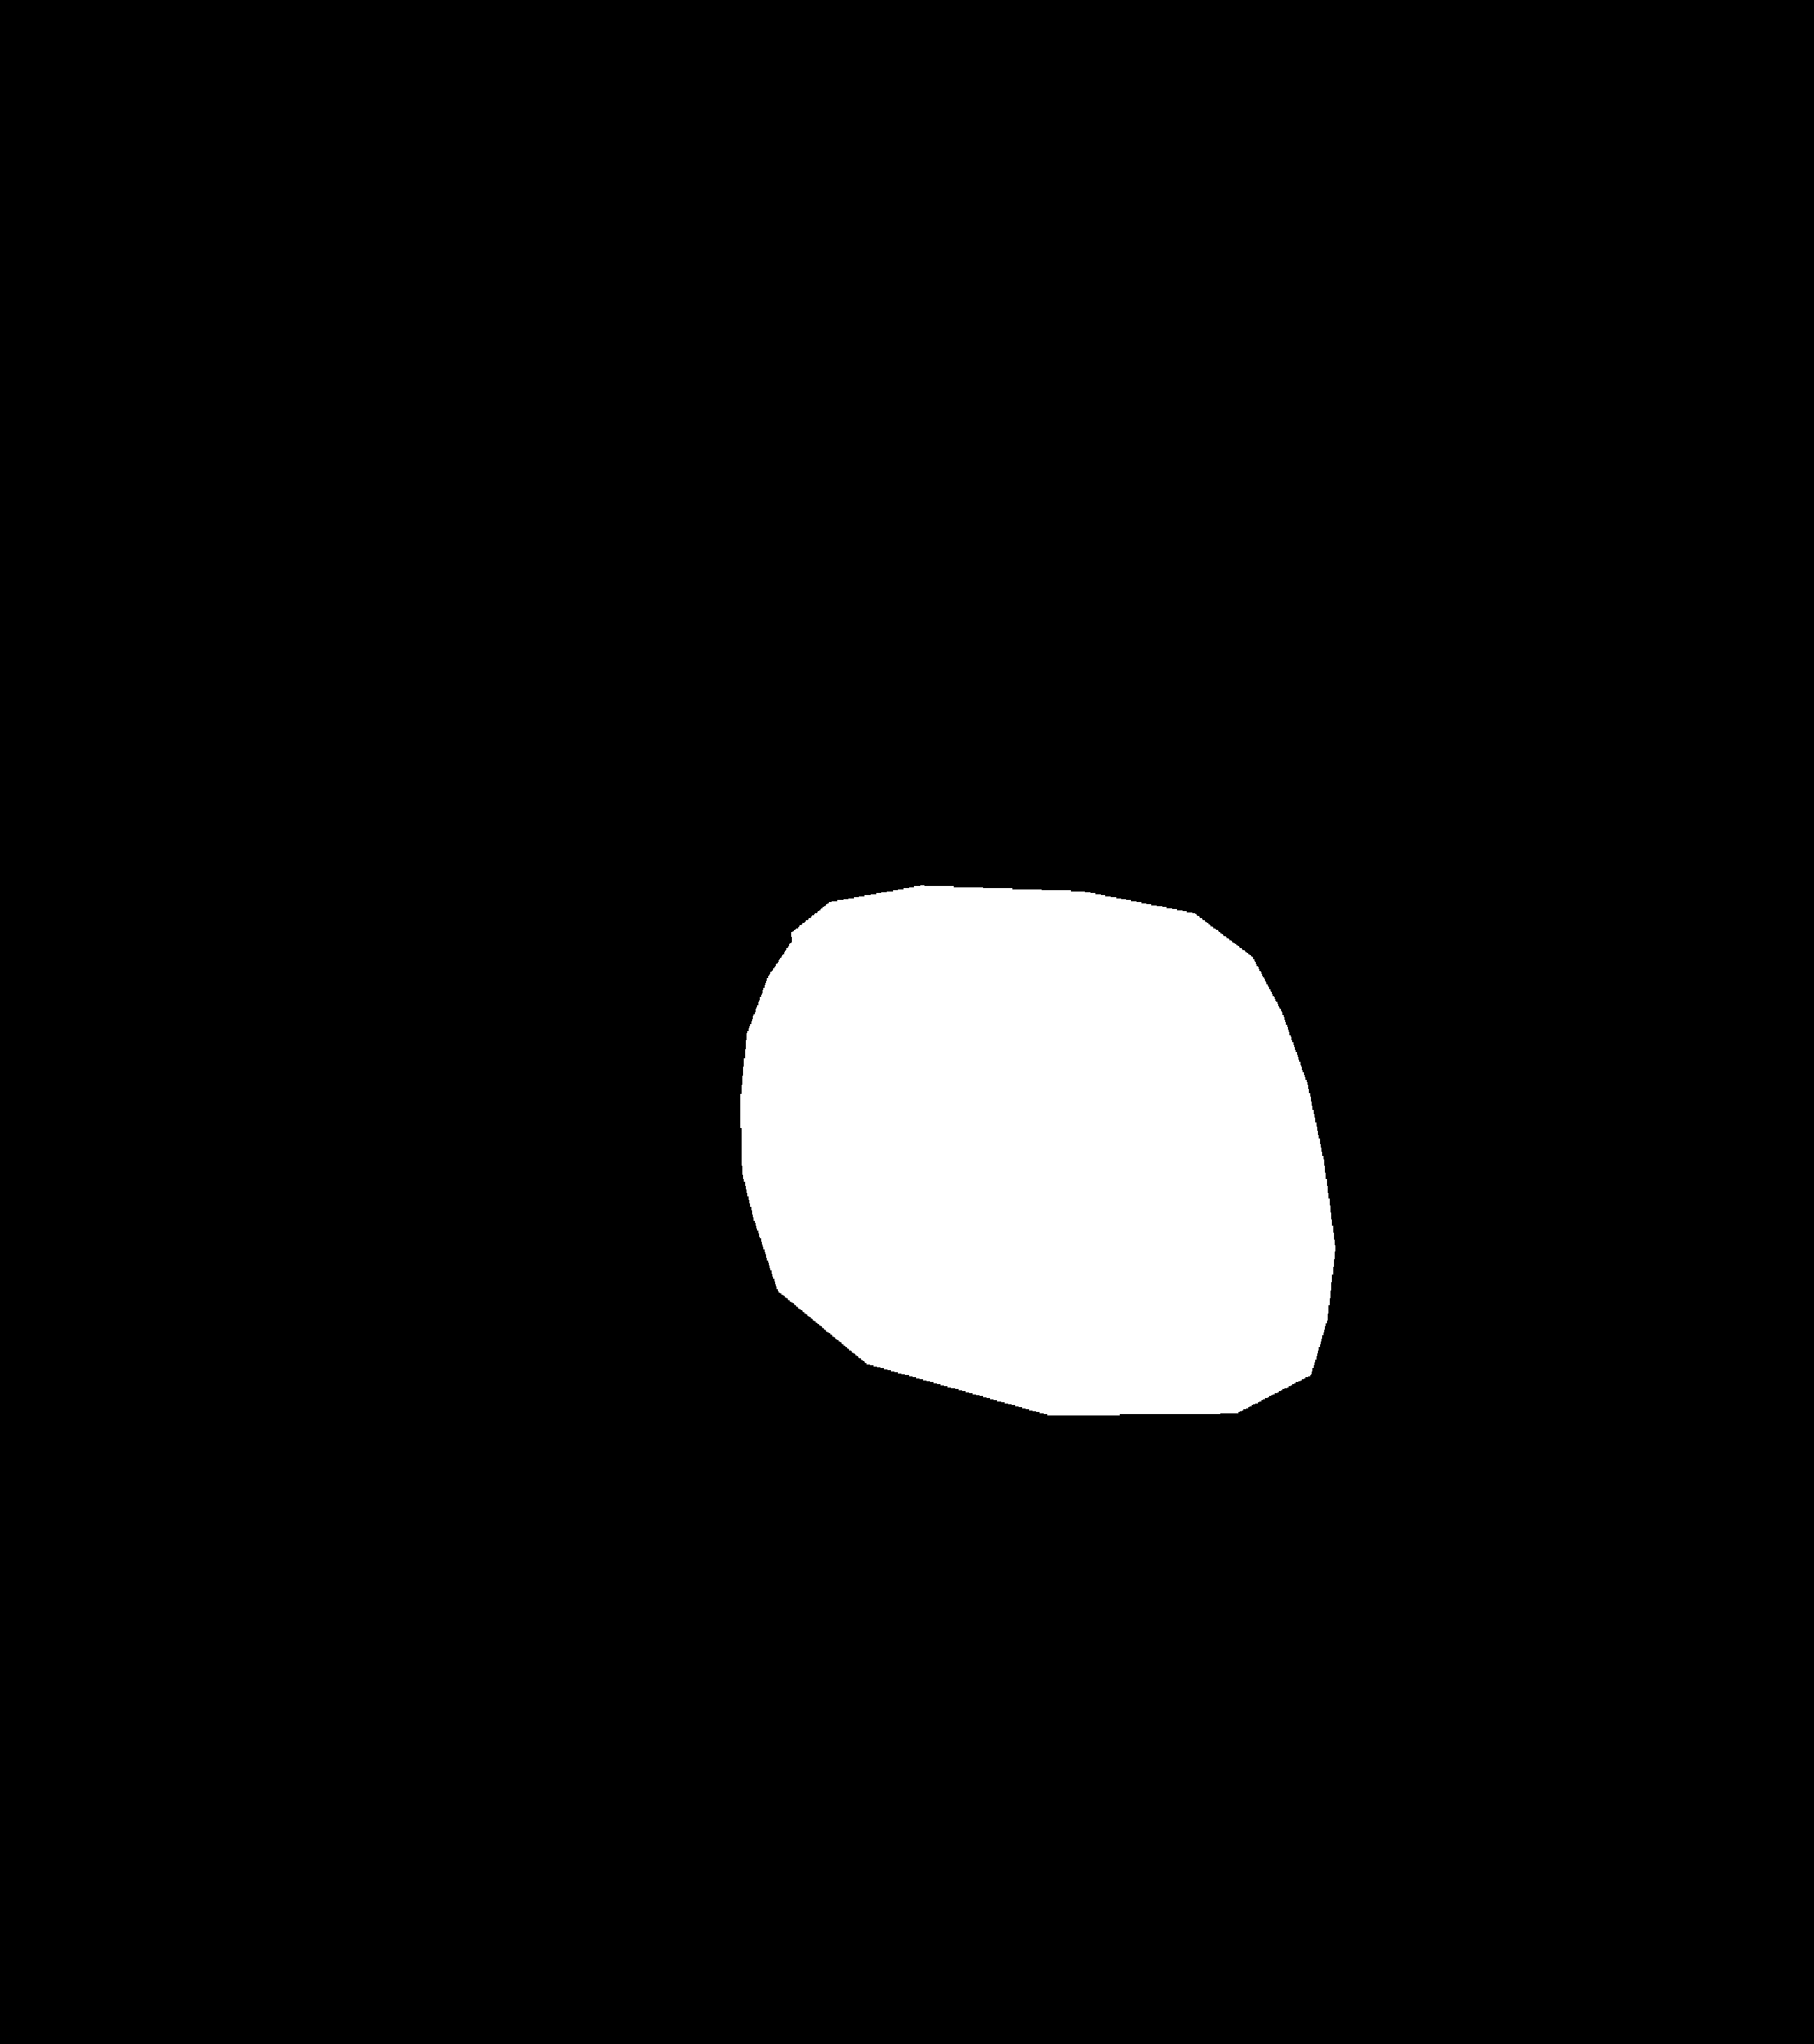heart: (742, 921, 1332, 1421)
left_lung: (203, 217, 895, 1589)
right_lung: (1033, 198, 1616, 1650)
